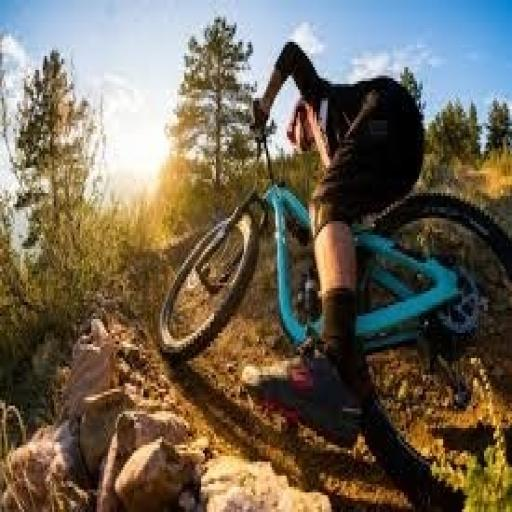cycling: (244, 36, 428, 434)
